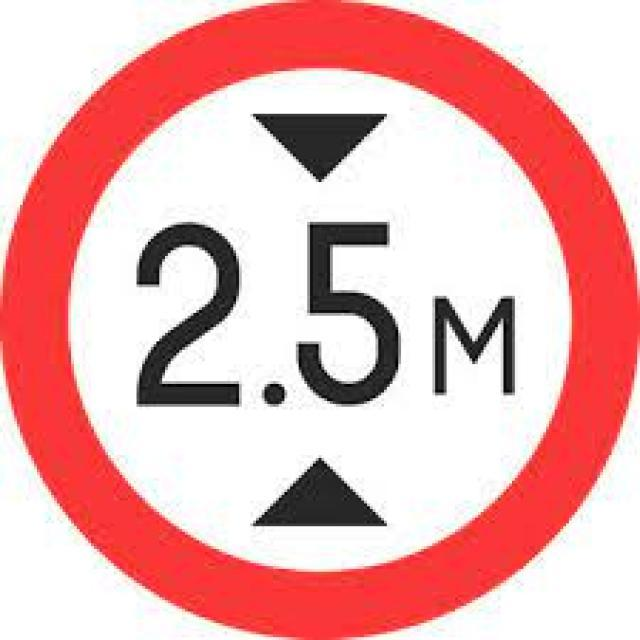height limit: (20, 22, 620, 615)
